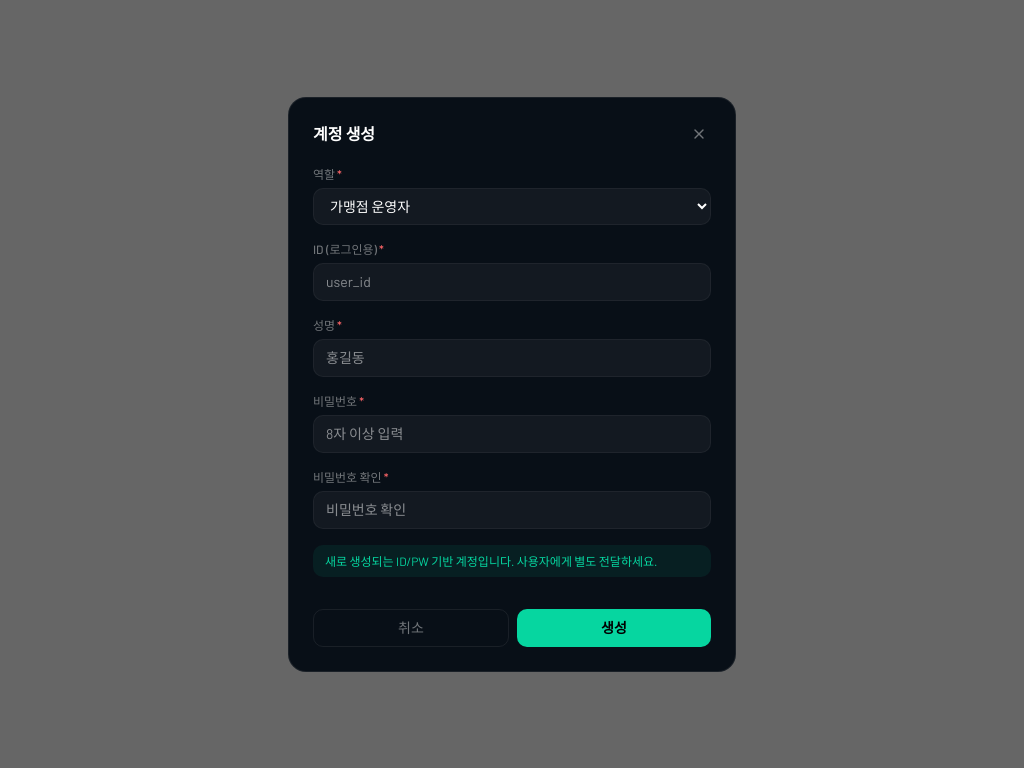
Scenario: CreateAccountForm › Form Validation › should validate password confirmation matches
The width and height of the screenshot is (1024, 768).
Select "매장 관리자" in the dropdown labelled "역할*": (512, 206) [313,188,711,224]
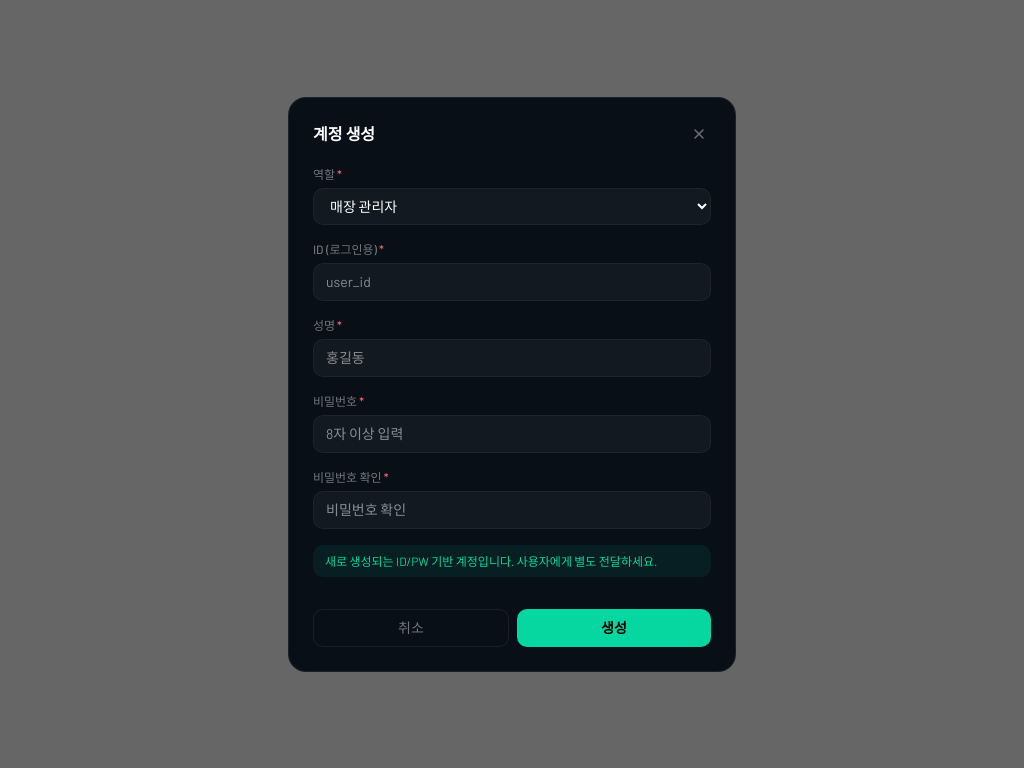
In the password field with placeholder "8자 이상 입력": (512, 434) [313,414,711,452], type "password123"
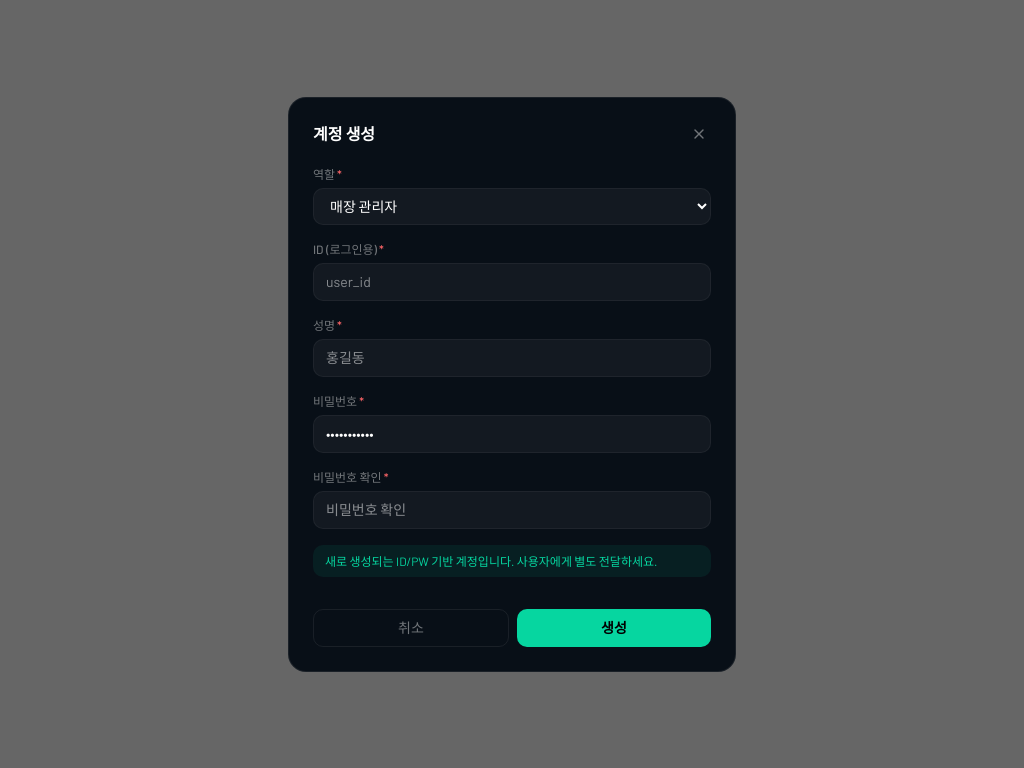
In the password field with placeholder "비밀번호 확인": (512, 510) [313,490,711,528], type "differentpass"
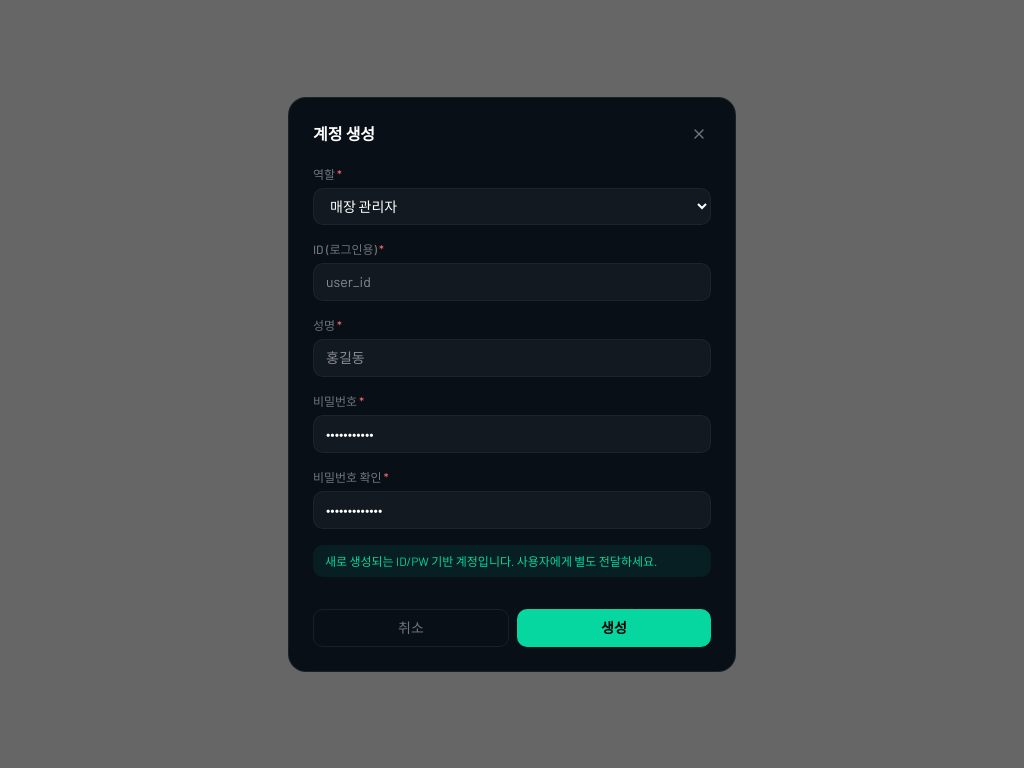
Click the button "생성": (614, 628) [517,608,711,646]
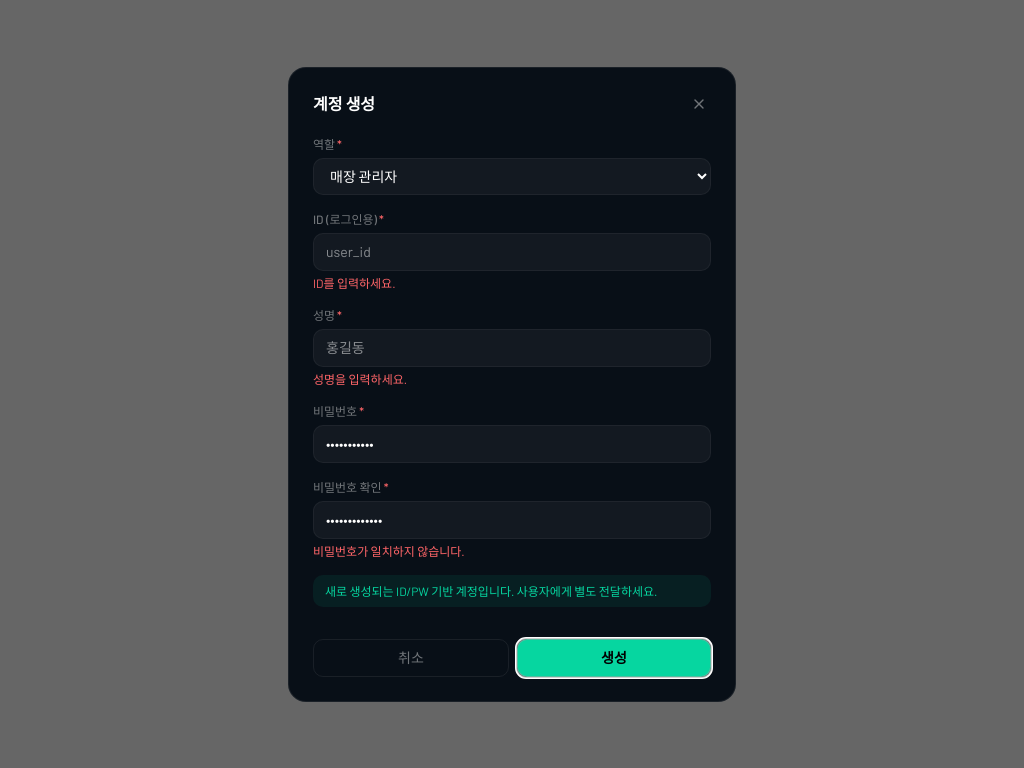
Expected: the text "비밀번호가 일치하지 않습니다." is shown, [313,544,465,558]
